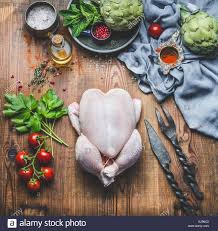Chicken: (69, 85, 146, 188)
Tomato: (10, 132, 56, 194)
